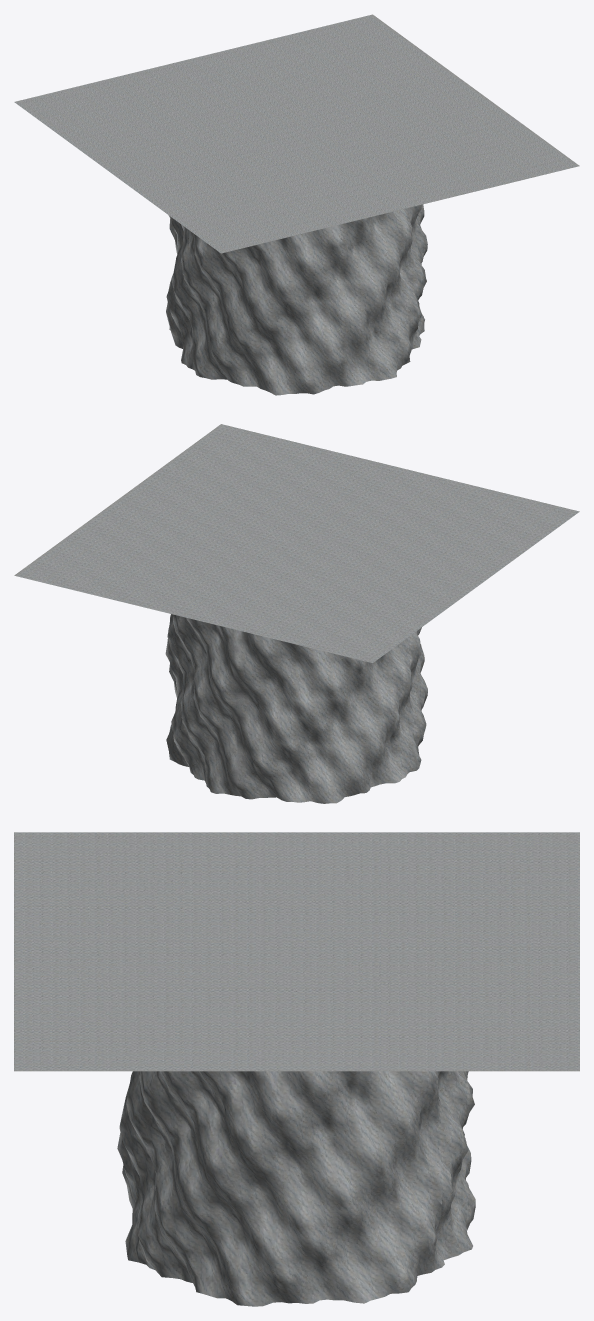
The model's file is room.glb.
3 renders of one model, top to bottom at view 1: azimuth 30°, elevation 25°; view 2: azimuth 150°, elevation 25°; view 3: azimuth 270°, elevation 25°, orthographic. The views are drawn at different scales.
Visible parts, largest first — view 1: VAIR-3; view 2: VAIR-3; view 3: VAIR-3.
Part boxes in pixels (<box>): VAIR-3: <box>14,14,579,395</box>; VAIR-3: <box>14,424,579,803</box>; VAIR-3: <box>14,832,579,1306</box>.
Size of the model in its own units: 136 by 75 by 136.
1 material, 1 textured.
